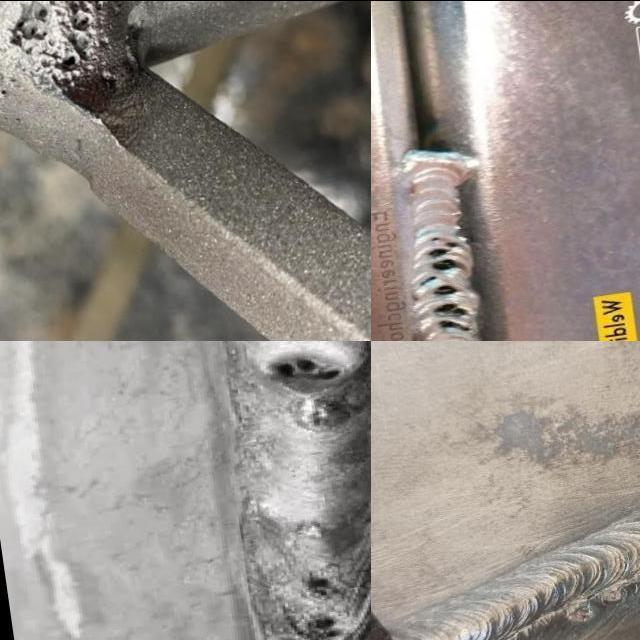defect: (41, 0, 126, 74), (262, 352, 352, 383), (417, 238, 464, 289), (9, 3, 50, 56), (295, 567, 343, 605), (301, 608, 348, 640), (568, 603, 596, 624), (597, 587, 626, 606), (0, 71, 18, 99), (434, 302, 467, 316), (438, 318, 471, 332), (431, 283, 460, 296), (12, 115, 25, 126), (531, 626, 540, 633), (431, 236, 441, 241)
